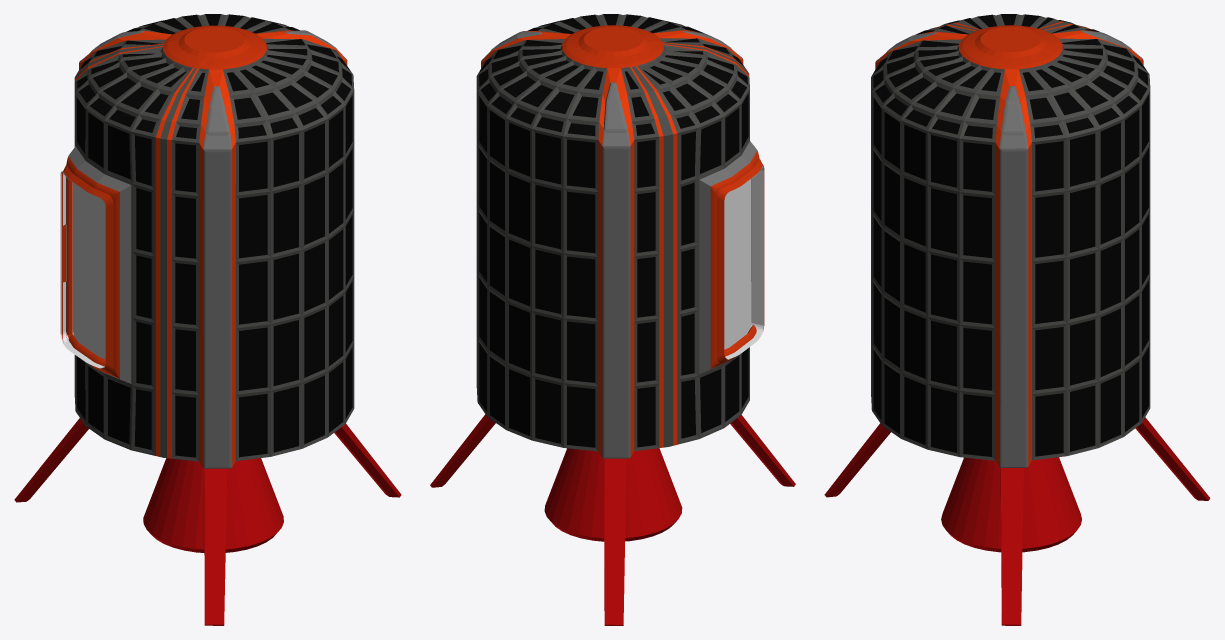
Rendered from pod.glb.
3 renders of one model, left to right at view 1: azimuth 30°, elevation 25°; view 2: azimuth 150°, elevation 25°; view 3: azimuth 270°, elevation 25°, orthographic. The views are drawn at different scales.
Parts seen in each view (by area): view 1: Ship, Door; view 2: Ship, Door; view 3: Ship.
Boxes of the visible parts, x1,y1,x2,y2 form: Ship: [14, 14, 401, 625]; Door: [60, 171, 105, 368]; Ship: [430, 14, 795, 625]; Door: [724, 166, 763, 359]; Ship: [824, 14, 1210, 625].
Size of the model in its own units: 5.25 by 7.91 by 5.47.
